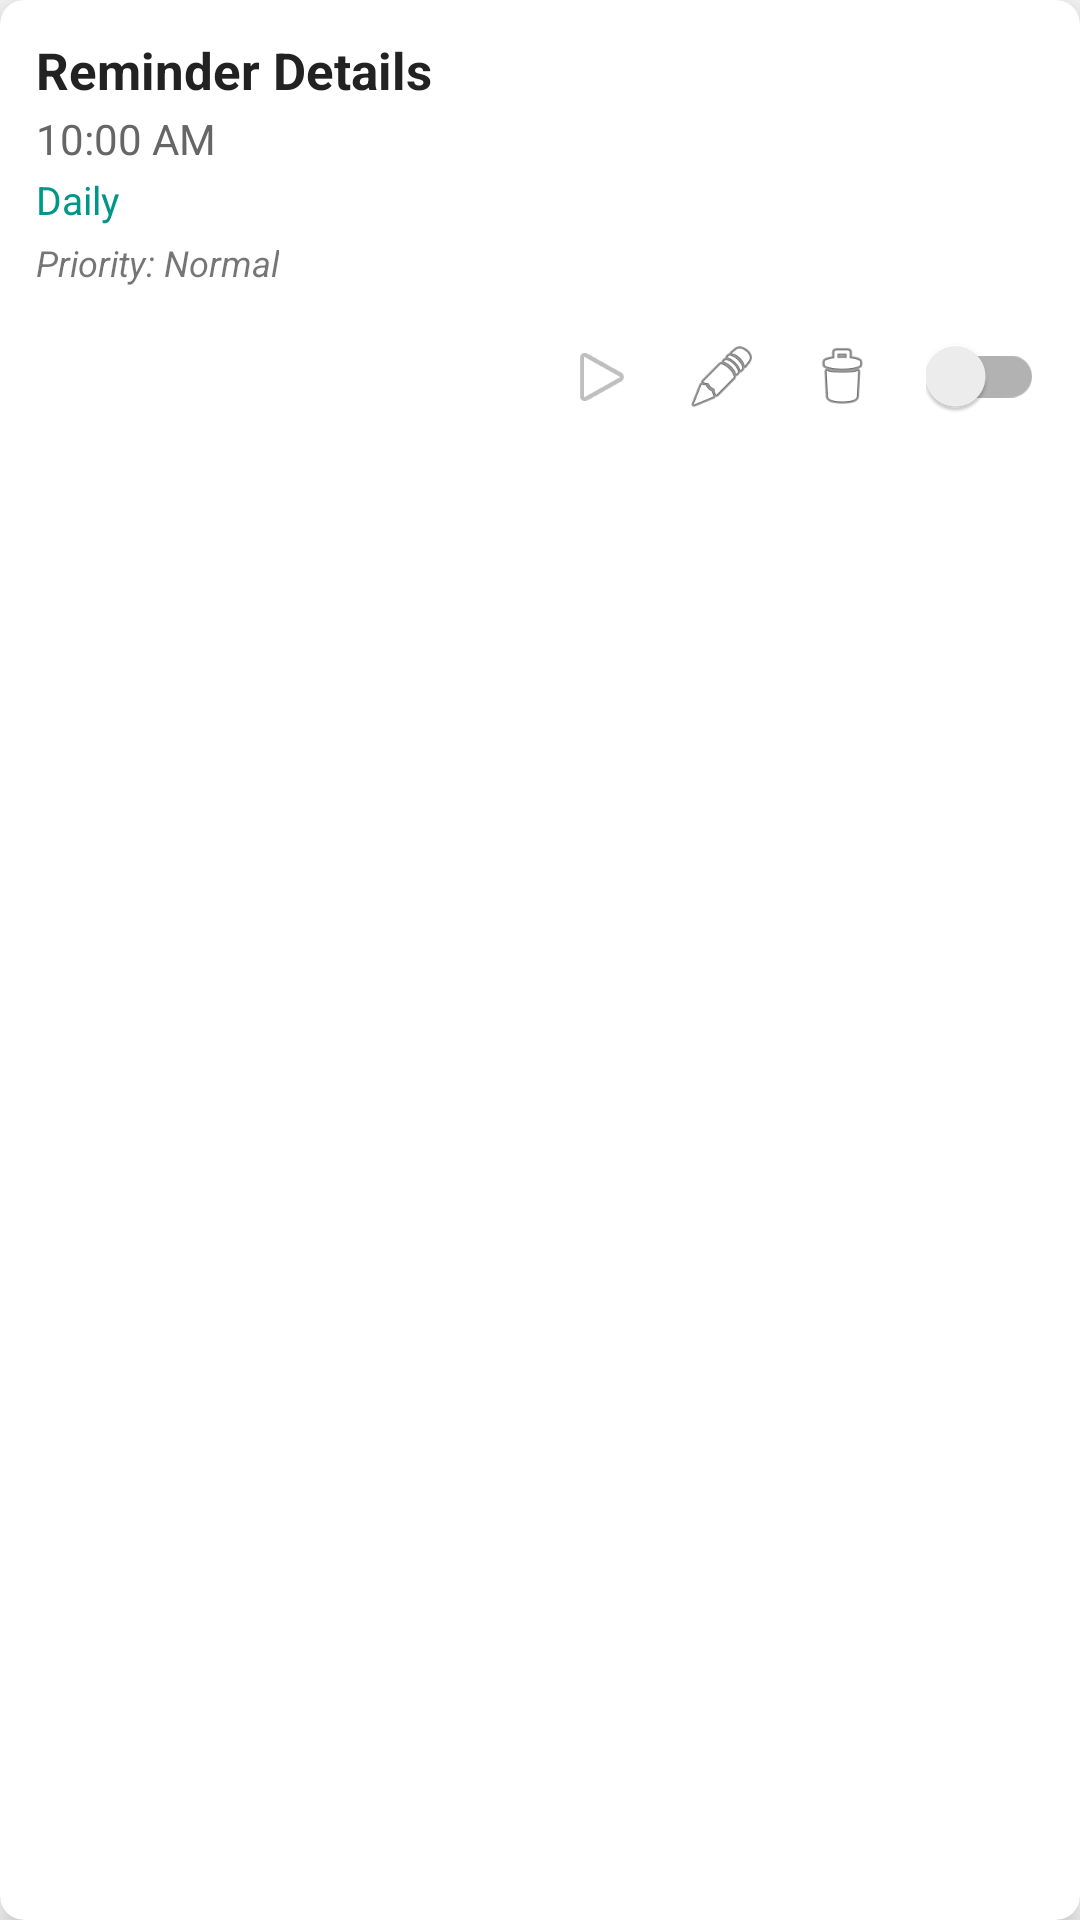

Named icons in this screenshot (1080 x 1920) and their centers, (x,y):
Delete Reminder: (842,376)
Edit Reminder: (721,376)
Play Audio: (602,377)
